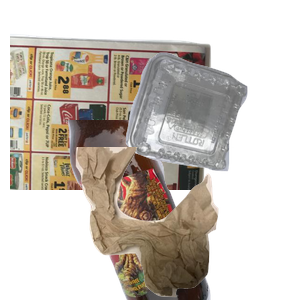glass: (65, 120, 300, 300)
paper: (10, 31, 214, 211)
plastic: (123, 50, 300, 214)
trash: (73, 147, 300, 300)
